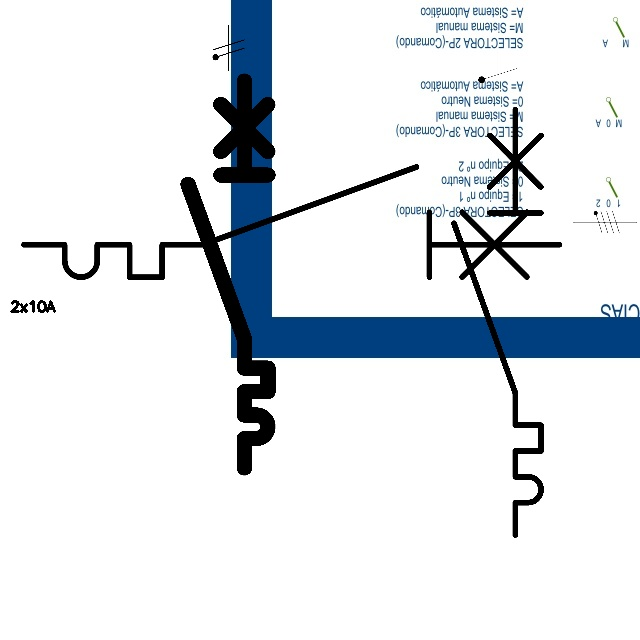interruptor_termomagnetico: (10, 153, 573, 291), (443, 98, 552, 545), (178, 71, 278, 478)
